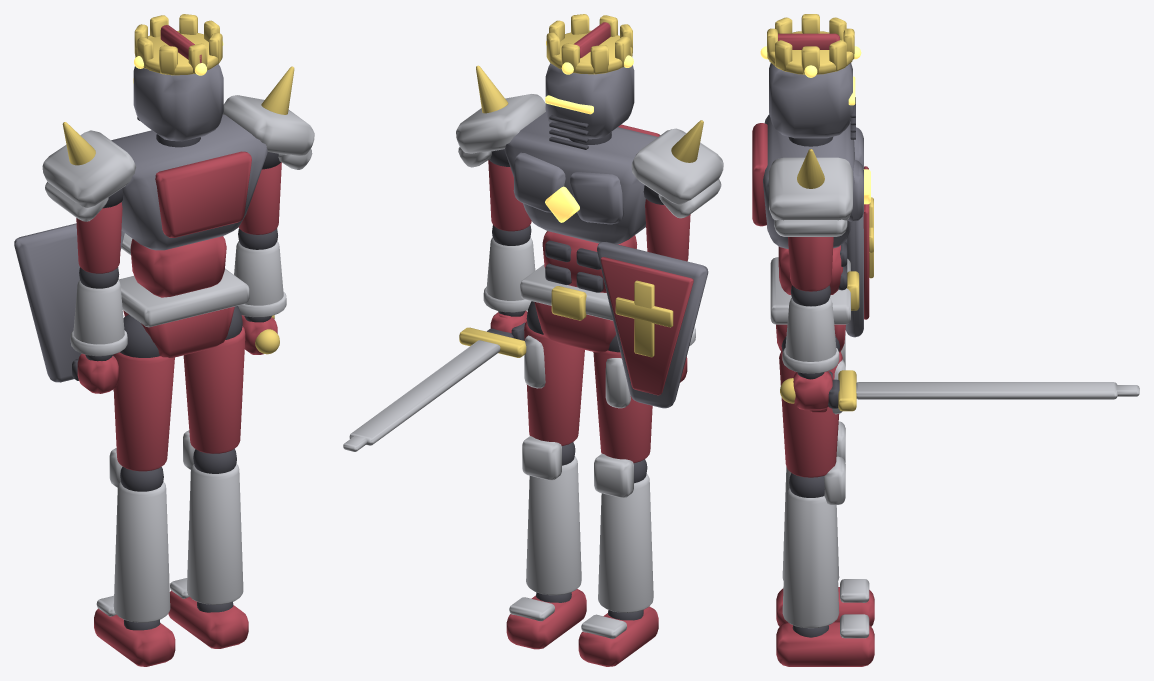
The model's file is king.glb.
The picture shows the model from 3 angles, left to right: view 1: azimuth 30°, elevation 25°; view 2: azimuth 150°, elevation 25°; view 3: azimuth 270°, elevation 25°; orthographic projection.
Visible parts, largest first — view 1: chest, head, upper_arm_l, shin_l, shin_r, thigh_l, shield, hips, upper_arm_r, thigh_r, abdomen, lower_arm_l (+6 smaller); view 2: chest, shield, head, shin_l, shin_r, upper_arm_l, upper_arm_r, thigh_r, hips, sword, thigh_l, lower_arm_r (+4 smaller); view 3: head, upper_arm_r, shin_r, sword, chest, foot_r, thigh_r, lower_arm_r, hips, shield, hand_r, foot_l (+2 smaller).
Boxes of the visible parts, x1,y1,x2,y2 form: chest: (111,114,267,250); head: (133,14,223,141); upper_arm_l: (42,122,135,273); shin_l: (109,448,170,622); shin_r: (183,430,243,604); thigh_l: (113,314,174,471); shield: (14,223,124,382); hips: (118,268,249,357); upper_arm_r: (223,66,314,234); thigh_r: (183,306,245,453); abdomen: (130,236,226,297); lower_arm_l: (70,267,127,356); chest: (504,112,660,244); shield: (597,241,708,408); head: (545,14,634,149); shin_l: (594,453,653,612); shin_r: (522,436,581,595); upper_arm_l: (631,120,723,261); upper_arm_r: (456,65,545,231); thigh_r: (524,301,584,445); hips: (520,264,615,352); sword: (343,314,526,451); thigh_l: (593,334,652,463); lower_arm_r: (483,225,535,312); head: (760,14,861,139); upper_arm_r: (769,149,852,291); shin_r: (782,456,845,628); sword: (780,370,1139,412); chest: (752,114,870,249); foot_r: (776,614,874,666); thigh_r: (779,336,845,477); lower_arm_r: (782,285,839,373); hips: (770,257,859,351); shield: (845,166,873,337); hand_r: (793,371,839,410); foot_l: (776,579,874,626).
Size of the model in its own units: 0.823 by 1.85 by 1.06.
